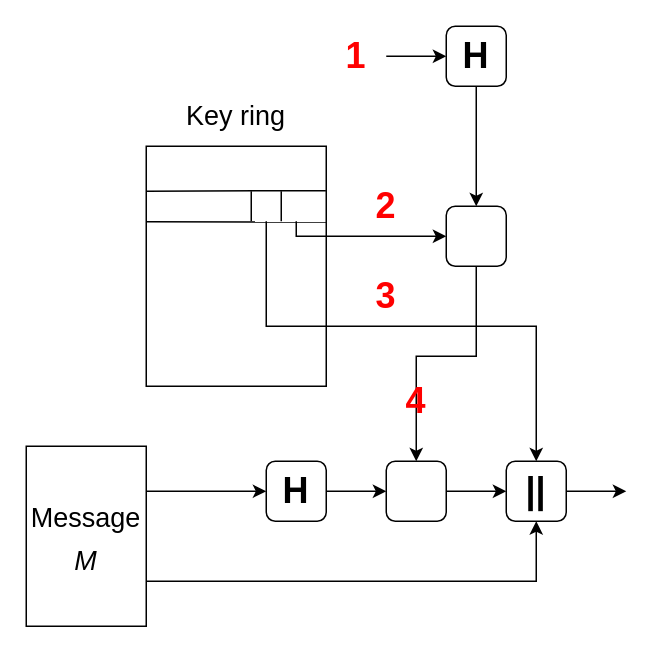
Image size: 665x653. Some labels were removed from this diagram. Each missing label, with the box of its shape:
DC: (445, 205, 506, 266)
EP: (385, 460, 446, 521)
